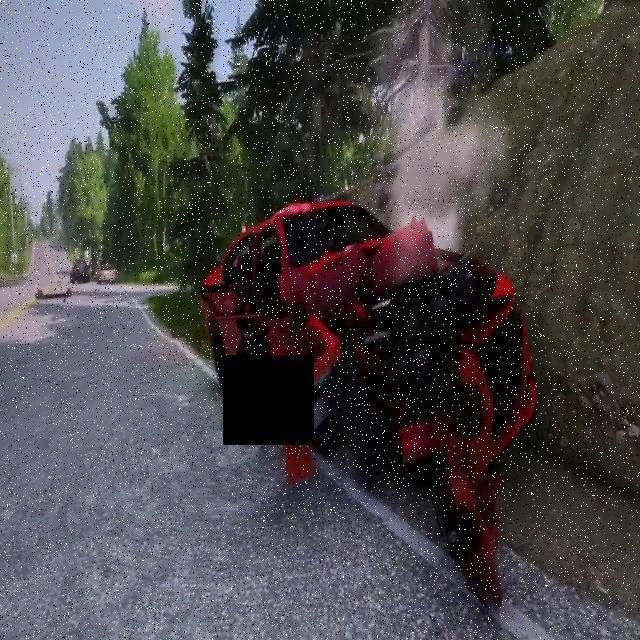vehicle: (214, 169, 640, 586)
